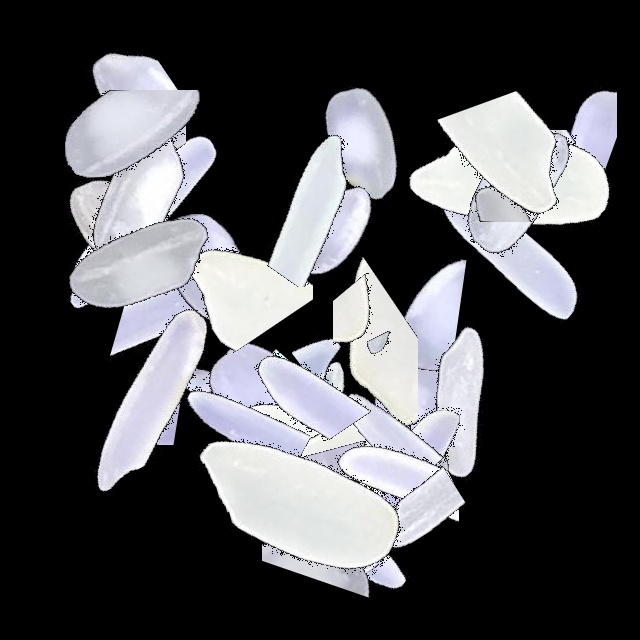Broken: (200, 115, 450, 287), (0, 96, 166, 346), (171, 466, 421, 631), (7, 90, 257, 251), (431, 53, 591, 303), (153, 293, 310, 543), (33, 0, 186, 250), (68, 263, 318, 414), (309, 388, 459, 638), (230, 362, 480, 509), (244, 401, 494, 546), (264, 239, 514, 378), (271, 454, 521, 592), (242, 244, 379, 494), (284, 235, 418, 485), (260, 355, 510, 487), (486, 0, 617, 250), (182, 139, 313, 389), (191, 415, 441, 545), (262, 390, 389, 640), (197, 290, 319, 540), (242, 411, 492, 532), (291, 376, 398, 626), (213, 411, 463, 517), (390, 130, 640, 236), (3, 341, 253, 445), (151, 210, 253, 460), (390, 126, 640, 222), (333, 196, 425, 446), (65, 114, 315, 199), (292, 215, 368, 465), (287, 324, 537, 399), (129, 60, 204, 310)
Full: (286, 280, 536, 530), (235, 17, 485, 267), (337, 278, 587, 528), (390, 127, 640, 377), (255, 364, 505, 614), (202, 98, 452, 348), (15, 94, 265, 344), (137, 273, 387, 523), (209, 331, 459, 581), (281, 364, 531, 614), (390, 59, 640, 309), (11, 67, 261, 317), (390, 62, 640, 312), (78, 142, 328, 392), (23, 275, 273, 525), (179, 376, 429, 626), (13, 138, 263, 388)
